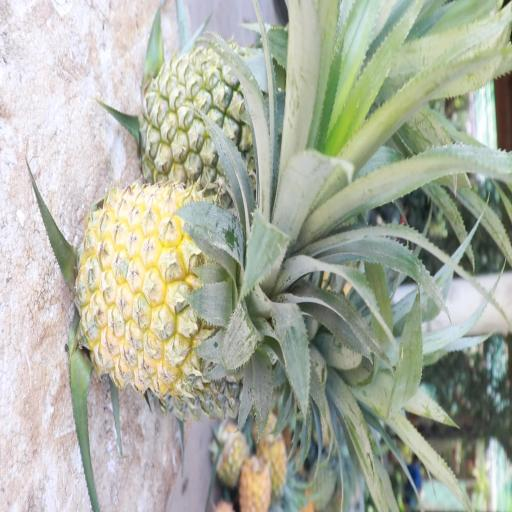------------------------------: (142, 35, 308, 204)
Pineapple - v8 v1: (78, 186, 294, 398)
